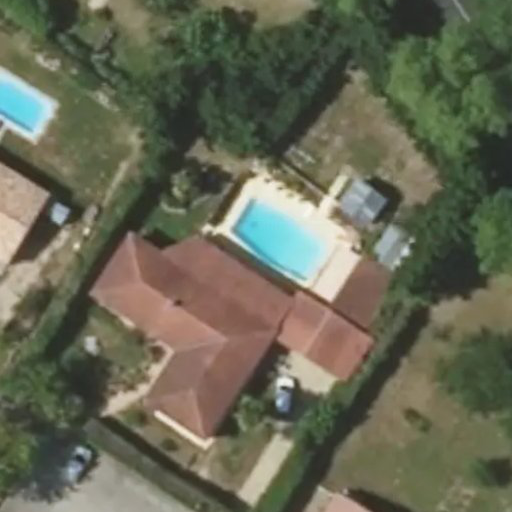pool: (202, 239, 307, 244)
